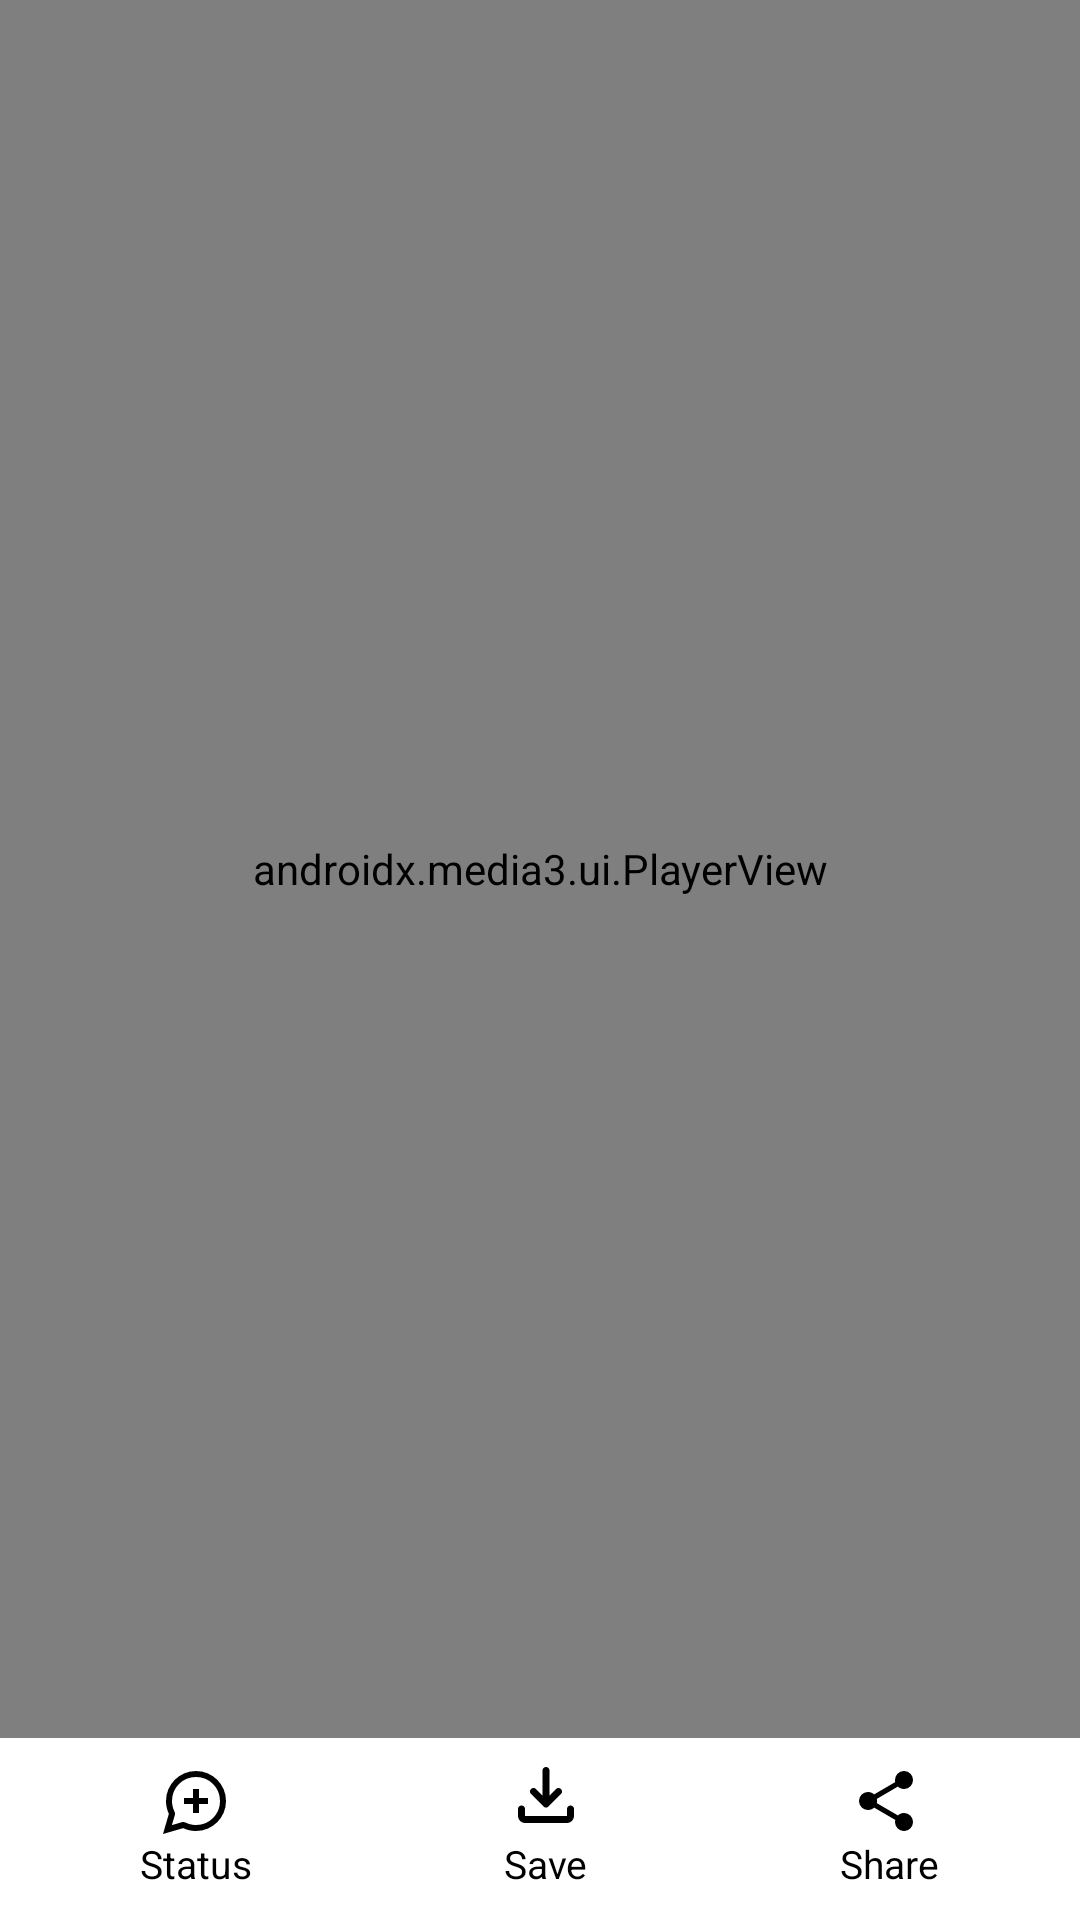

Named icons in this screenshot (1080x1920) and their centers, (x,y):
download iconp: (546,1795)
